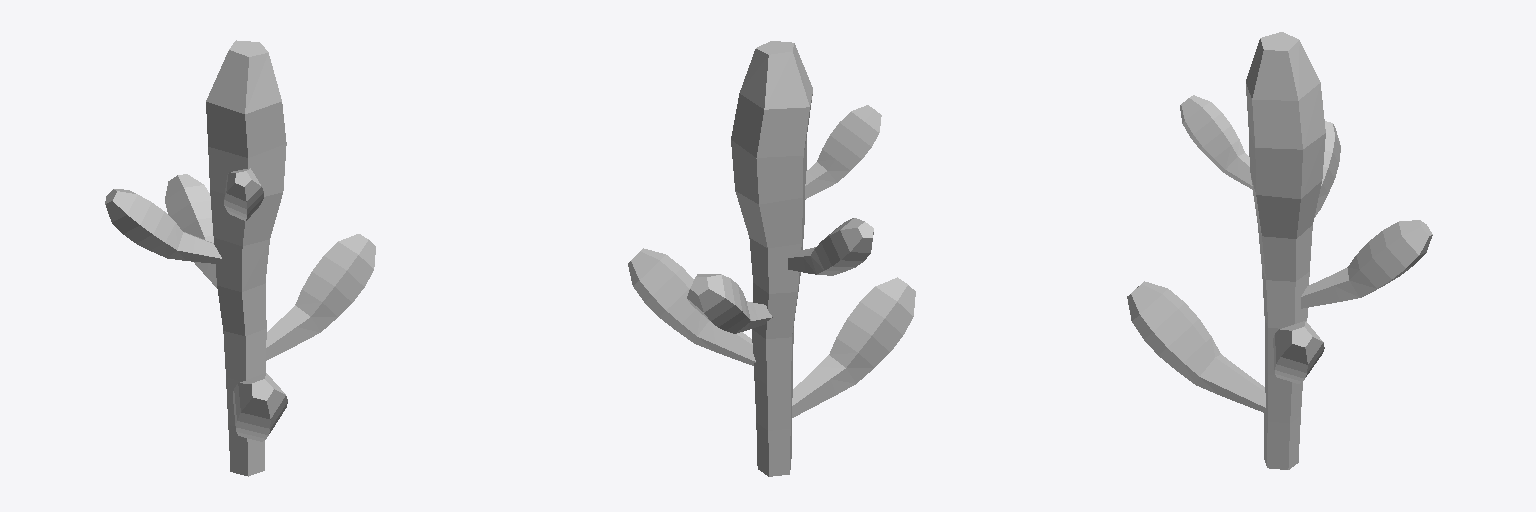
Rendered from cactus3.obj.
3 views of the same model, side by side, from view 1: azimuth 30°, elevation 25°; view 2: azimuth 150°, elevation 25°; view 3: azimuth 270°, elevation 25° (orthographic).
Parts seen in each view (by area): view 1: main_cactus.003; view 2: main_cactus.003; view 3: main_cactus.003.
Part boxes in pixels (x1,y1,x2,y2): main_cactus.003: (105, 40, 375, 476); main_cactus.003: (628, 41, 915, 476); main_cactus.003: (1127, 32, 1432, 469).
Bounding box in the file's own units: 4.01 × 6.35 × 4.16.